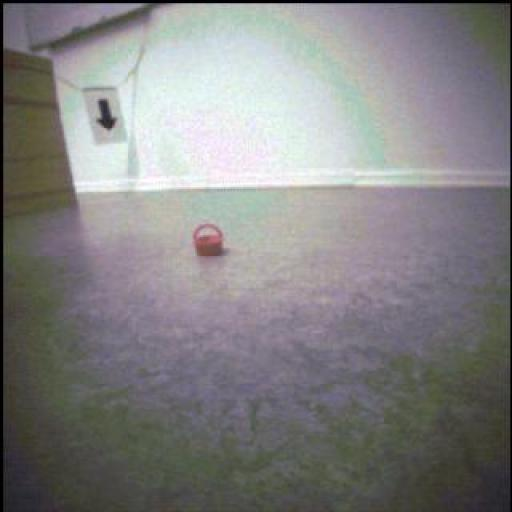Arrow: (99, 100, 118, 131)
Bucket: (193, 221, 230, 261)
